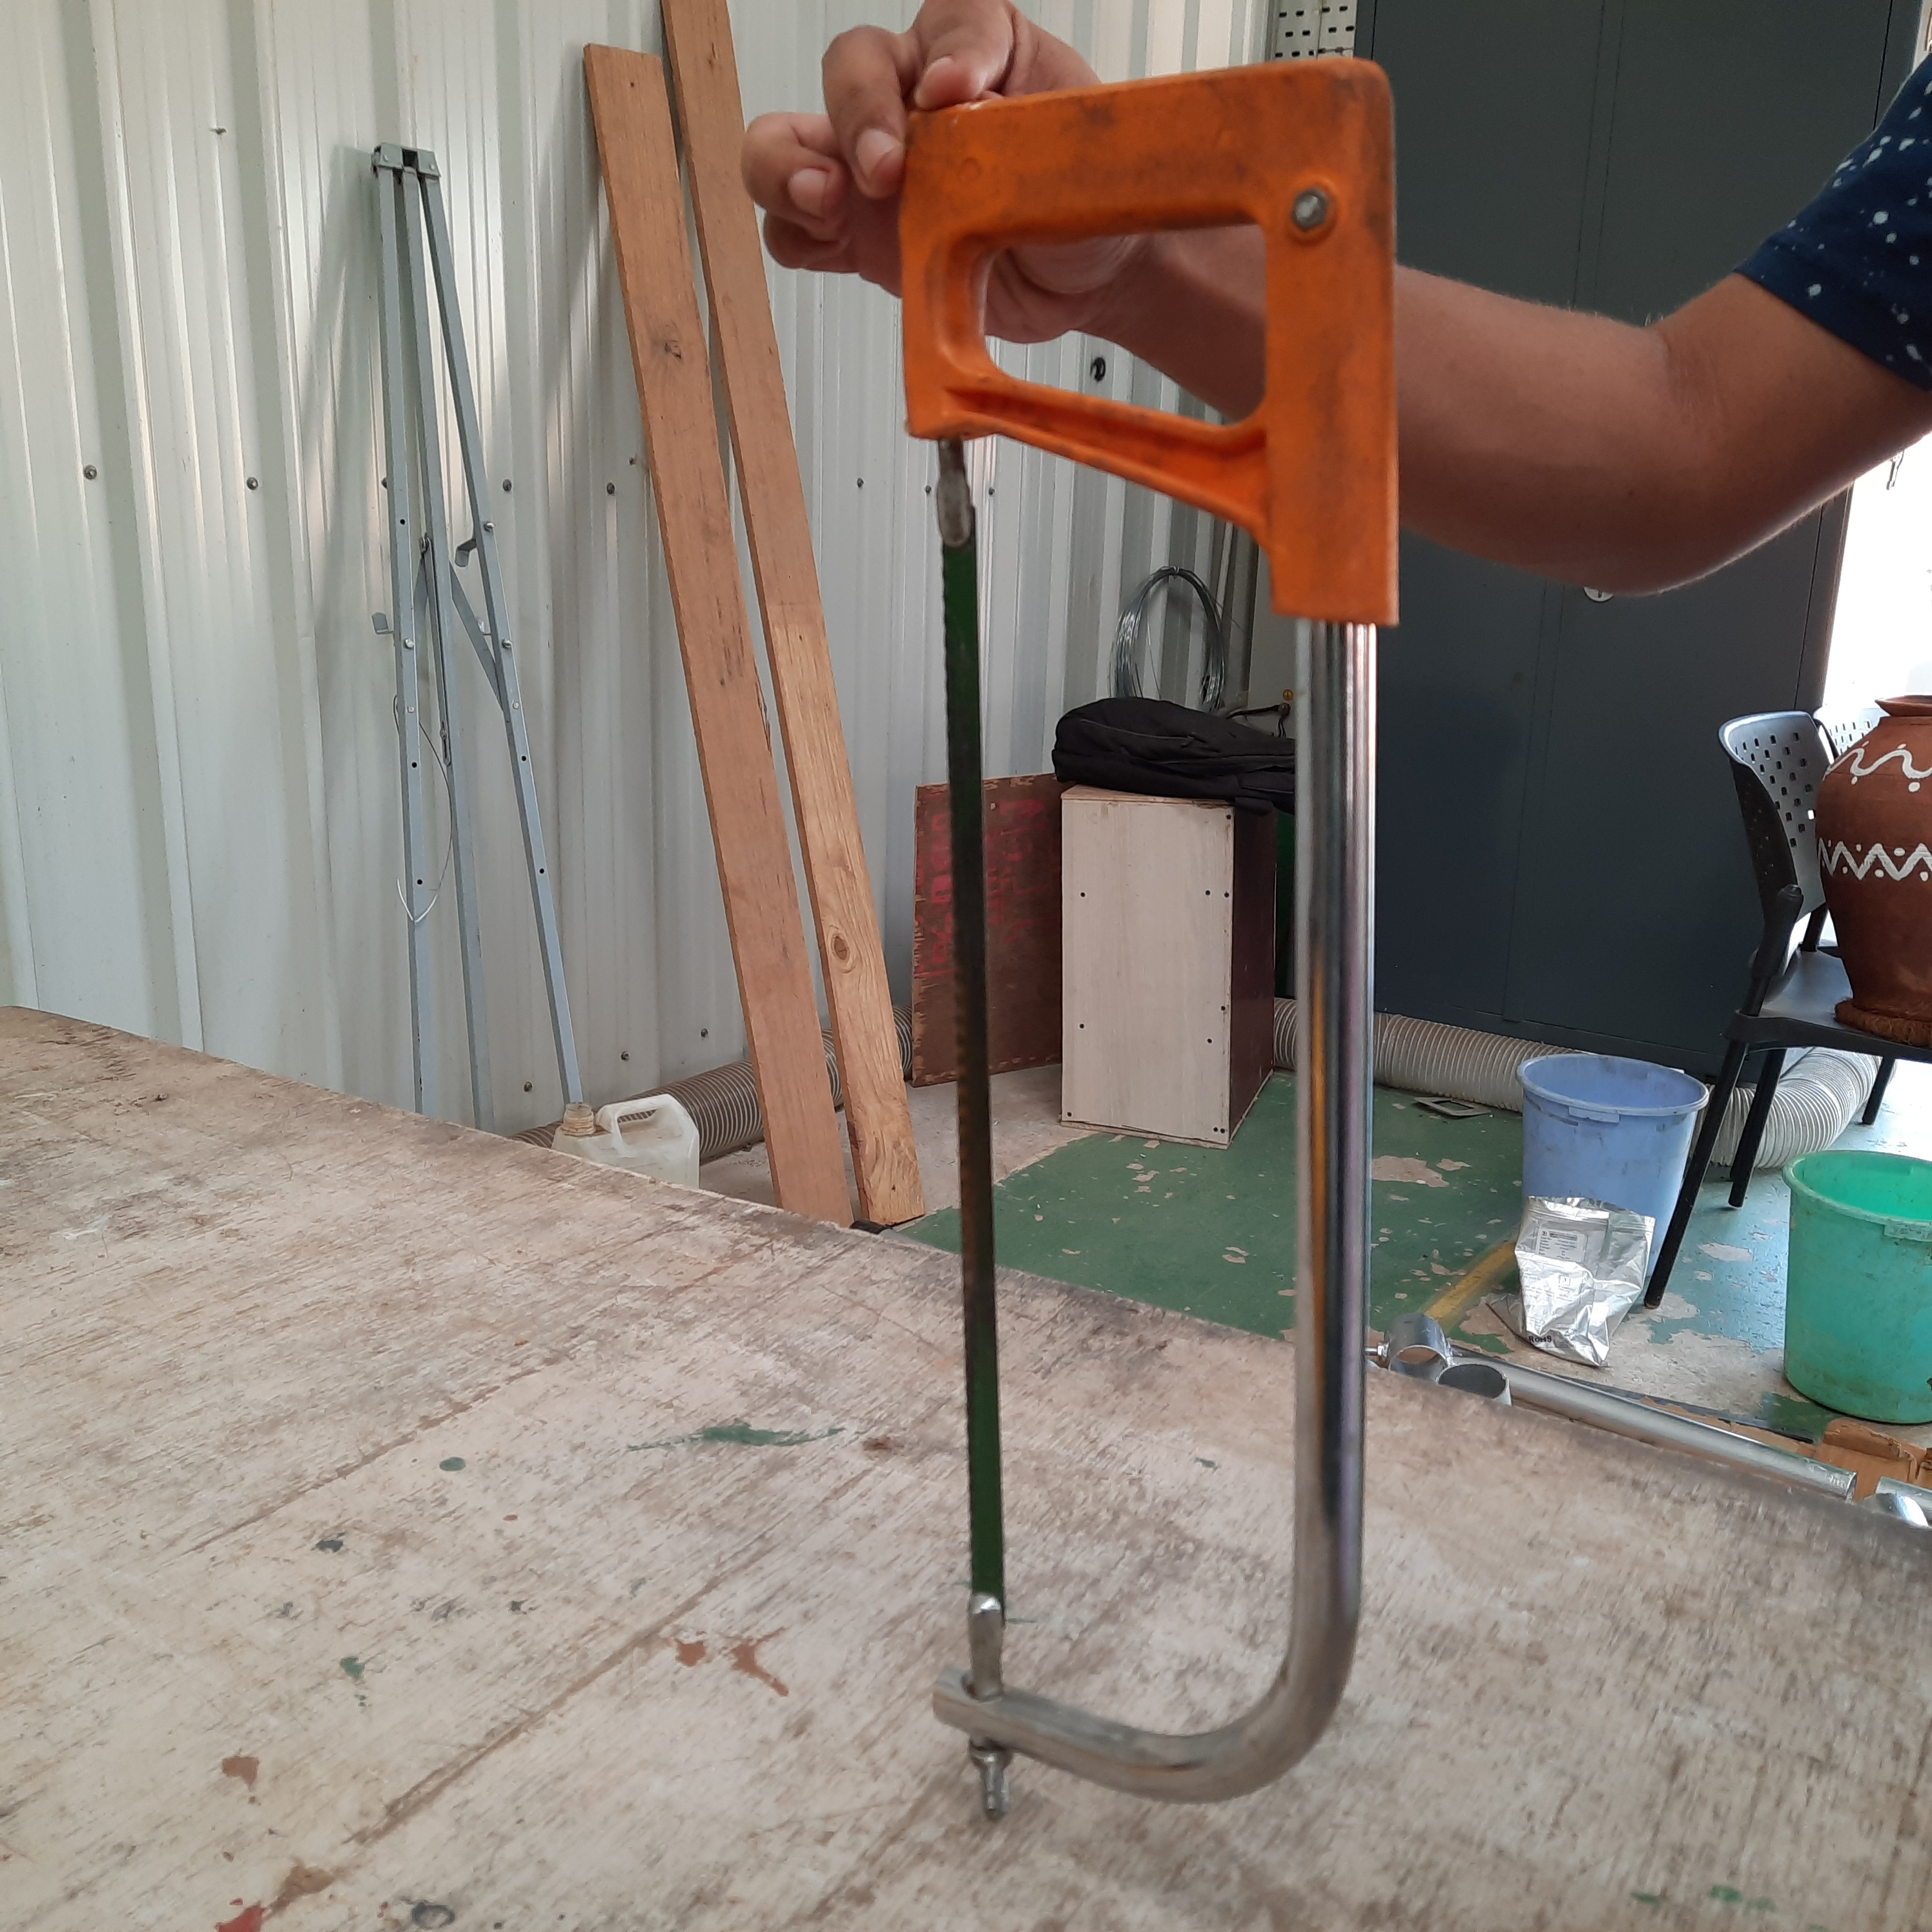Hexaframe: (893, 46, 1419, 1813)
